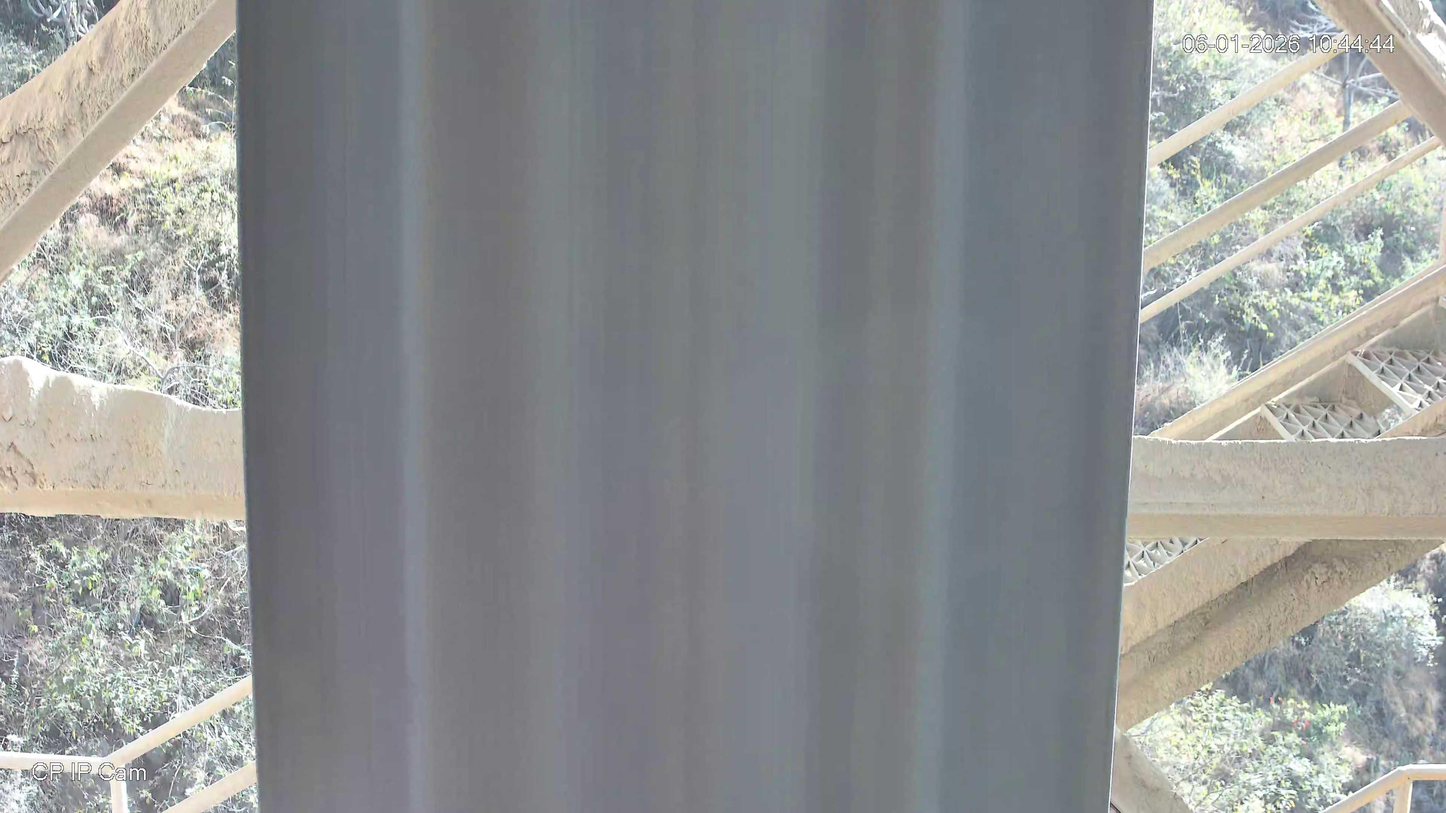belt_roi: (236, 0, 1158, 813)
